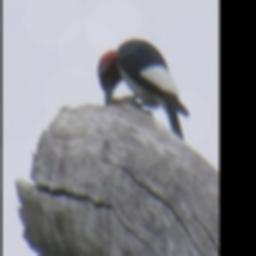Woodpecker: (94, 35, 193, 143)
